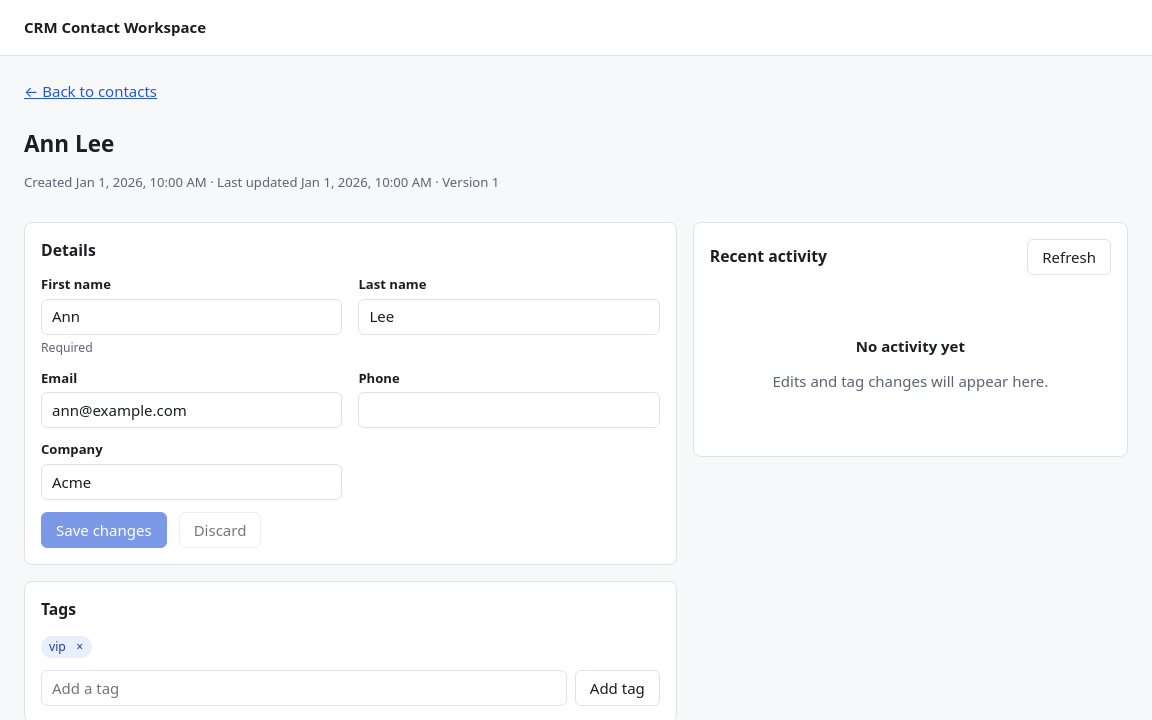
Test: ContactDetailPage — tags › explains a no-op when the tag already exists
Expected: the heading "Ann Lee" is shown, [24,128,114,158]
In the field named "New tag": [304, 688] box [41,670,567,706], type "VIP"
Then press Enter
(page scrolled)
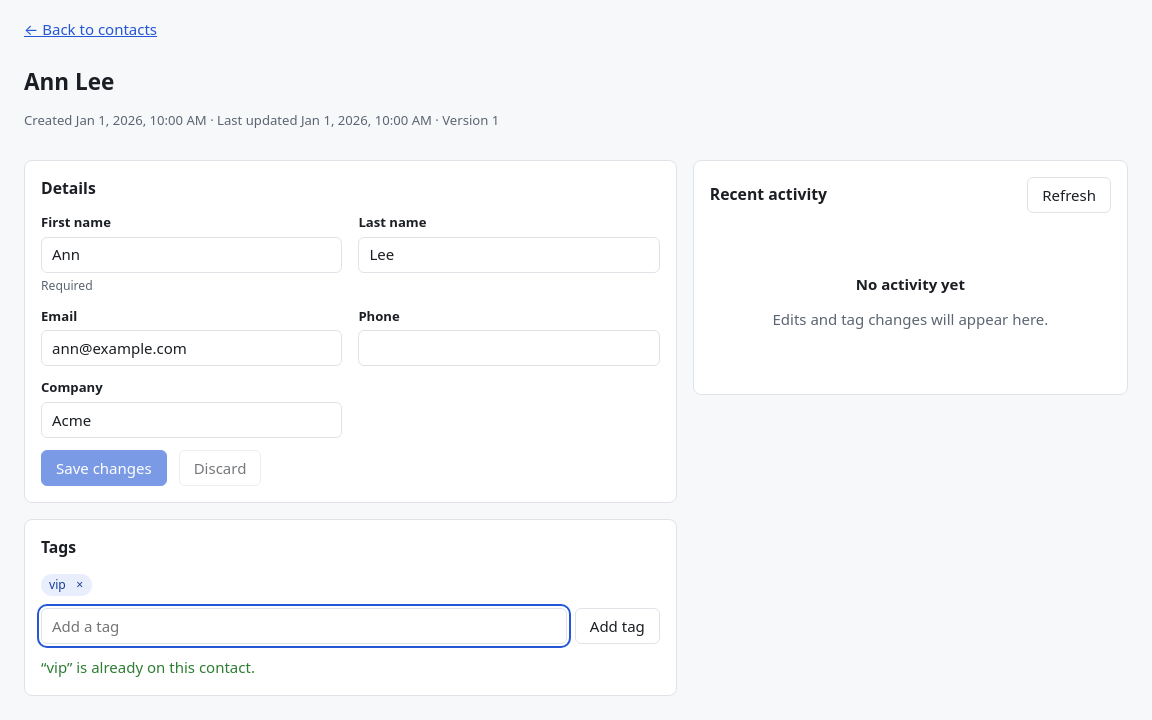
Result: the text "“vip” is already on this contact." is shown at [41,657,255,677]
